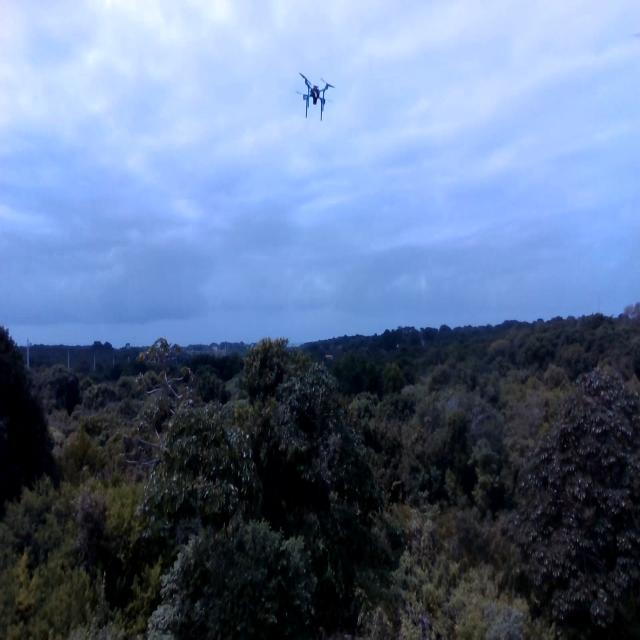-uav-: (293, 66, 339, 122)
